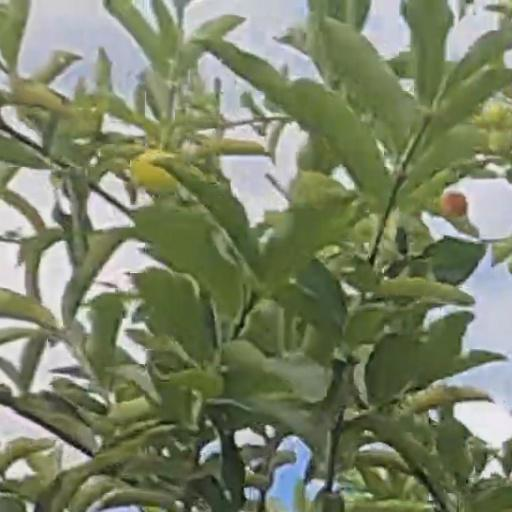acerola: (132, 152, 177, 192), (440, 191, 467, 217)
